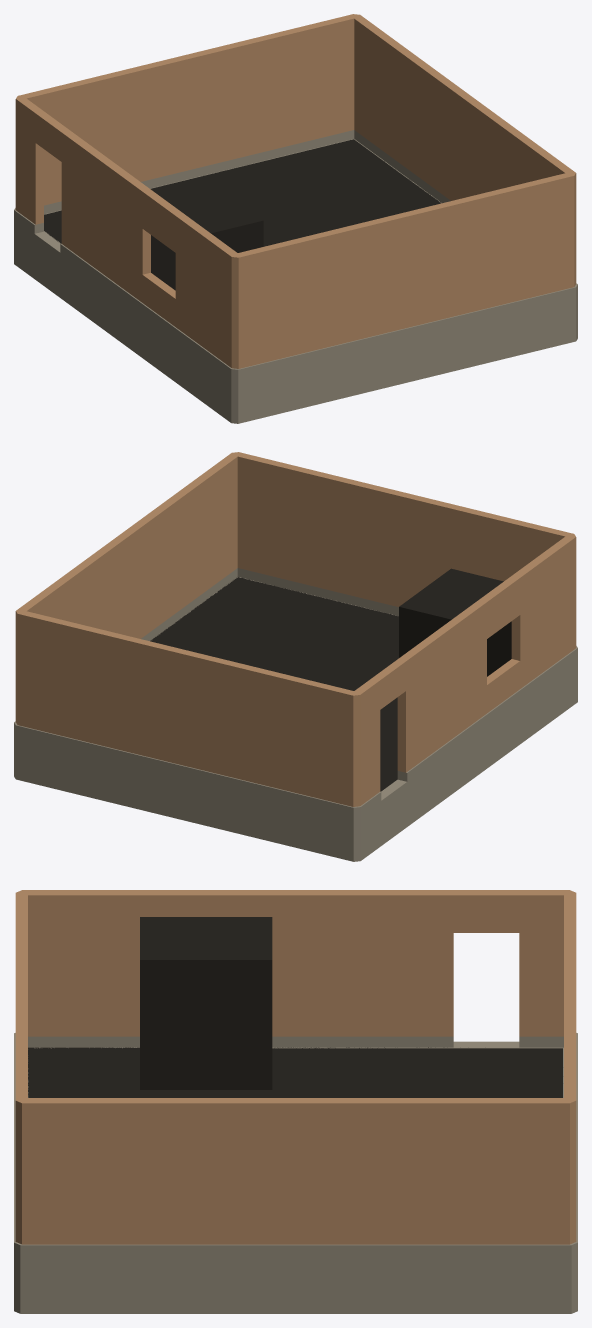
The model's file is SM_Homes_H03_Shell_LOD2.fbx.
3 views of the same model, one above another, from view 1: azimuth 30°, elevation 25°; view 2: azimuth 150°, elevation 25°; view 3: azimuth 270°, elevation 25° (orthographic). The views are drawn at different scales.
Visible parts, largest first — view 1: SM_Homes_H03_Shell_LOD2; view 2: SM_Homes_H03_Shell_LOD2; view 3: SM_Homes_H03_Shell_LOD2.
Boxes of the visible parts, left/top/right/bottom form: SM_Homes_H03_Shell_LOD2: left=14, top=14, right=577, bottom=423; SM_Homes_H03_Shell_LOD2: left=14, top=452, right=577, bottom=861; SM_Homes_H03_Shell_LOD2: left=14, top=890, right=577, bottom=1313.
Bounding box in the file's own units: 9.06 × 10.06 × 4.13.
